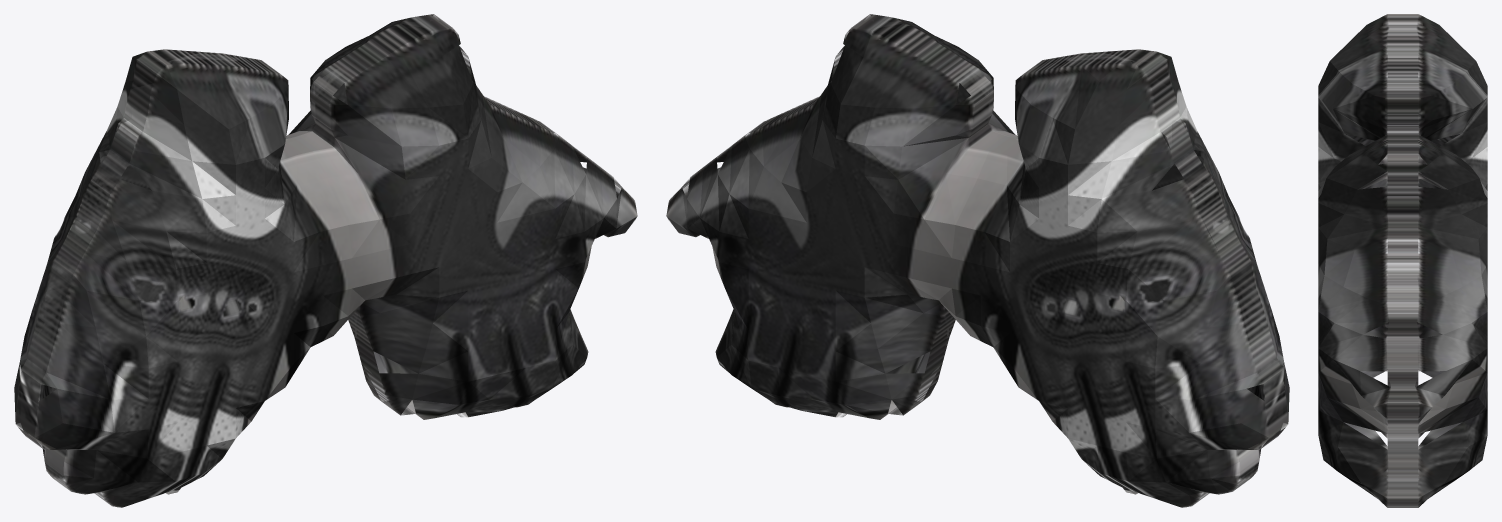
Rendered from forma-vantage-sport-glove-100.glb.
The picture shows the model from 3 angles, left to right: view 1: azimuth 30°, elevation 25°; view 2: azimuth 150°, elevation 25°; view 3: azimuth 270°, elevation 25°; orthographic projection. The views are drawn at different scales.
Visible parts, largest first — view 1: world; view 2: world; view 3: world.
Part boxes in pixels (left/top/right/bottom): world: left=14, top=14, right=637, bottom=507; world: left=666, top=14, right=1289, bottom=507; world: left=1318, top=14, right=1487, bottom=507.
Bounding box in the file's own units: 1 × 0.6871 × 0.3.
Materials: 1 (1 with a texture image).
